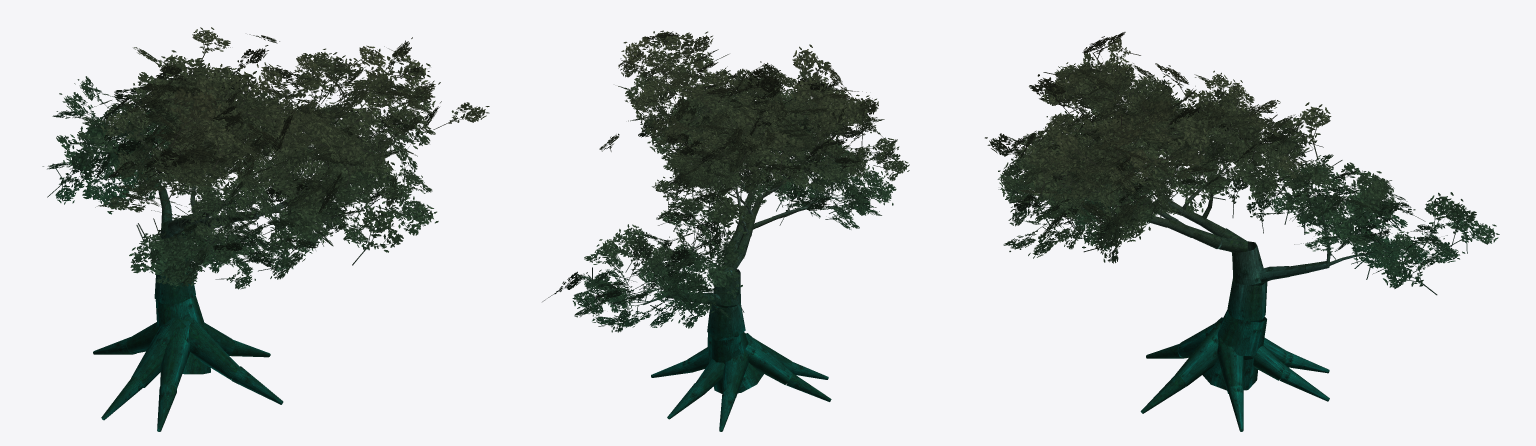
The model's file is tree_oak_gnarled_b_lush.glb.
3 renders of one model, left to right at view 1: azimuth 30°, elevation 25°; view 2: azimuth 150°, elevation 25°; view 3: azimuth 270°, elevation 25°, orthographic. The views are drawn at different scales.
Parts seen in each view (by area): view 1: tree_oak_gnarled_b_LOD0; view 2: tree_oak_gnarled_b_LOD0; view 3: tree_oak_gnarled_b_LOD0.
Boxes of the visible parts, x1,y1,x2,y2 form: tree_oak_gnarled_b_LOD0: (42,27,489,431); tree_oak_gnarled_b_LOD0: (542,30,909,431); tree_oak_gnarled_b_LOD0: (985,32,1499,431).
Size of what is drawn, in the model's own units: 8.51 by 8.03 by 11.75.
Materials: 2 (2 with a texture image).
